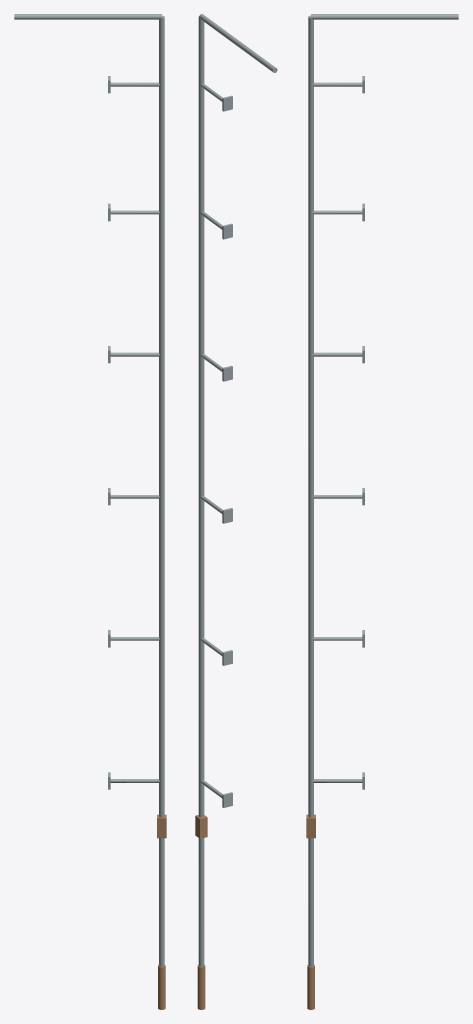
Rendered from mine-downlead-hoist.glb.
3 renders of one model, left to right at view 1: azimuth 90°, elevation 25°; view 2: azimuth 210°, elevation 25°; view 3: azimuth 270°, elevation 25°, orthographic.
Visible parts, largest first — view 1: down-conductor__main__Protection_metal, down-conductor__main__Protection_copper; view 2: down-conductor__main__Protection_metal, down-conductor__main__Protection_copper; view 3: down-conductor__main__Protection_metal, down-conductor__main__Protection_copper.
Part boxes in pixels (left/top/right/bottom): down-conductor__main__Protection_metal: left=14, top=14, right=164, bottom=966; down-conductor__main__Protection_copper: left=157, top=814, right=166, bottom=1009; down-conductor__main__Protection_metal: left=198, top=14, right=277, bottom=966; down-conductor__main__Protection_copper: left=195, top=815, right=207, bottom=1009; down-conductor__main__Protection_metal: left=308, top=14, right=458, bottom=966; down-conductor__main__Protection_copper: left=306, top=814, right=315, bottom=1009.
Bounding box in the file's own units: 0.07 × 7 × 0.97.
